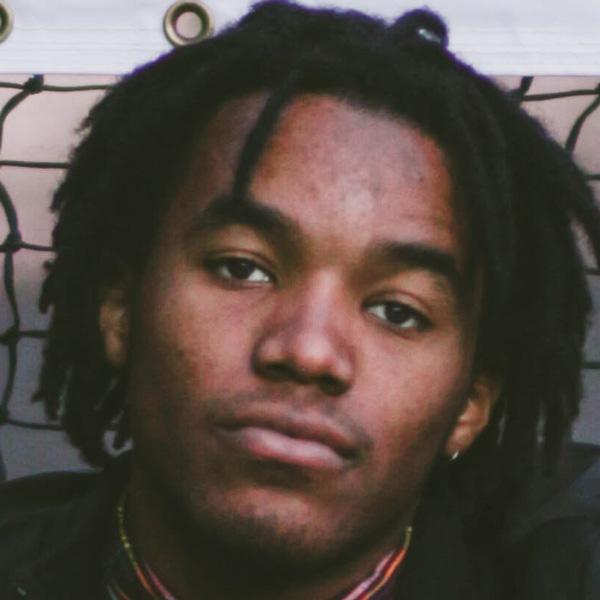Eyes: (356, 282, 438, 344), (198, 239, 281, 298)
